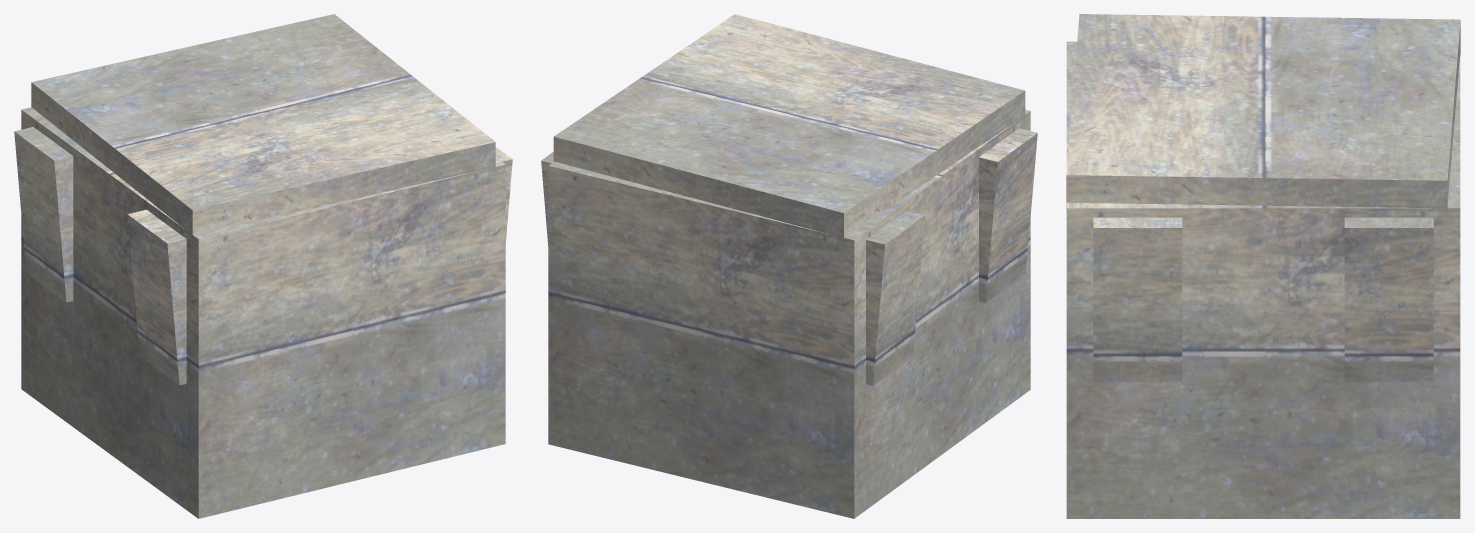
Rendered from Ammo Box.fbx.
The picture shows the model from 3 angles, left to right: view 1: azimuth 30°, elevation 25°; view 2: azimuth 150°, elevation 25°; view 3: azimuth 270°, elevation 25°; orthographic projection. The views are drawn at different scales.
Parts seen in each view (by area): view 1: Ammobox1; view 2: Ammobox1; view 3: Ammobox1.
Boxes of the visible parts, x1,y1,x2,y2 form: Ammobox1: (14,14,512,518); Ammobox1: (541,14,1037,518); Ammobox1: (1066,14,1460,518).
Bounding box in the file's own units: 184 × 155 × 164.
1 material, 1 textured.
